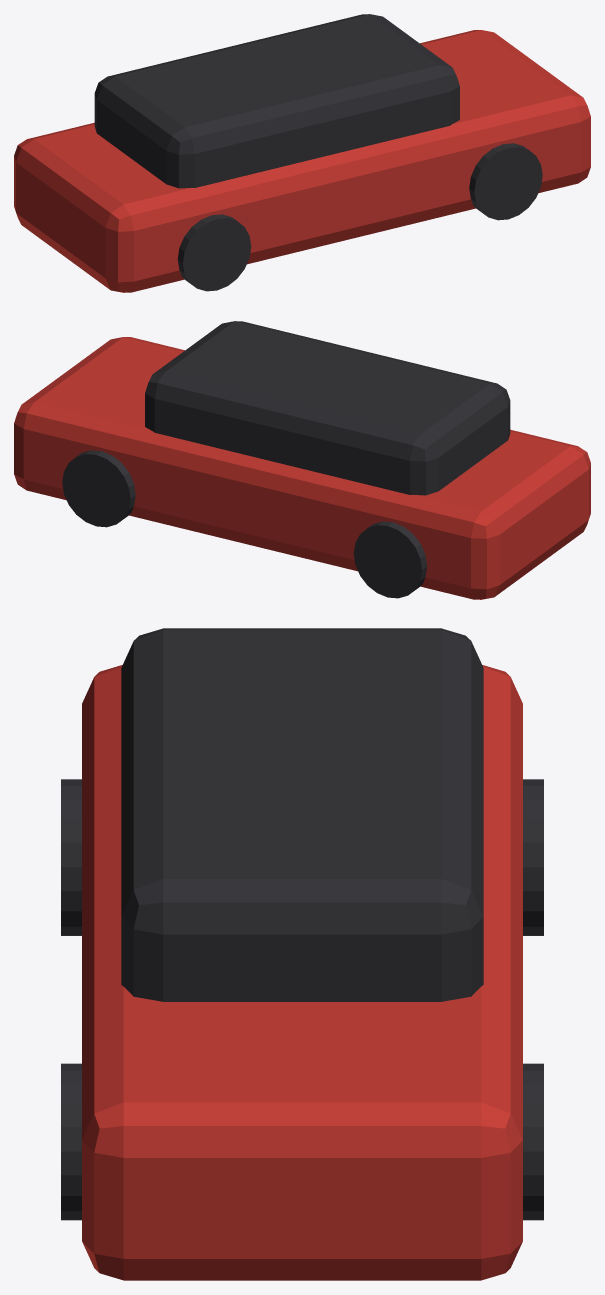
The model's file is reference_vehicle.glb.
3 renders of one model, top to bottom at view 1: azimuth 30°, elevation 25°; view 2: azimuth 150°, elevation 25°; view 3: azimuth 270°, elevation 25°, orthographic. The views are drawn at different scales.
Visible parts, largest first — view 1: ReferenceCar_Body_4.81m, ReferenceCar_Roof, ReferenceCar_Wheel.002, ReferenceCar_Wheel; view 2: ReferenceCar_Body_4.81m, ReferenceCar_Roof, ReferenceCar_Wheel.003, ReferenceCar_Wheel.001; view 3: ReferenceCar_Body_4.81m, ReferenceCar_Roof, ReferenceCar_Wheel.002, ReferenceCar_Wheel.003, ReferenceCar_Wheel, ReferenceCar_Wheel.001.
Part boxes in pixels (x1,y1,x2,y2): ReferenceCar_Body_4.81m: (14, 30, 590, 292); ReferenceCar_Roof: (94, 14, 459, 188); ReferenceCar_Wheel.002: (469, 143, 542, 220); ReferenceCar_Wheel: (177, 214, 251, 291); ReferenceCar_Body_4.81m: (14, 337, 590, 599); ReferenceCar_Roof: (145, 321, 510, 495); ReferenceCar_Wheel.003: (62, 450, 135, 527); ReferenceCar_Wheel.001: (353, 521, 427, 598); ReferenceCar_Body_4.81m: (82, 665, 522, 1280); ReferenceCar_Roof: (121, 628, 483, 1001); ReferenceCar_Wheel.002: (61, 1063, 81, 1220); ReferenceCar_Wheel.003: (523, 1063, 543, 1220); ReferenceCar_Wheel: (61, 779, 81, 935); ReferenceCar_Wheel.001: (523, 779, 543, 935).
Bounding box in the file's own units: 4.81 × 1.39 × 2.08.
